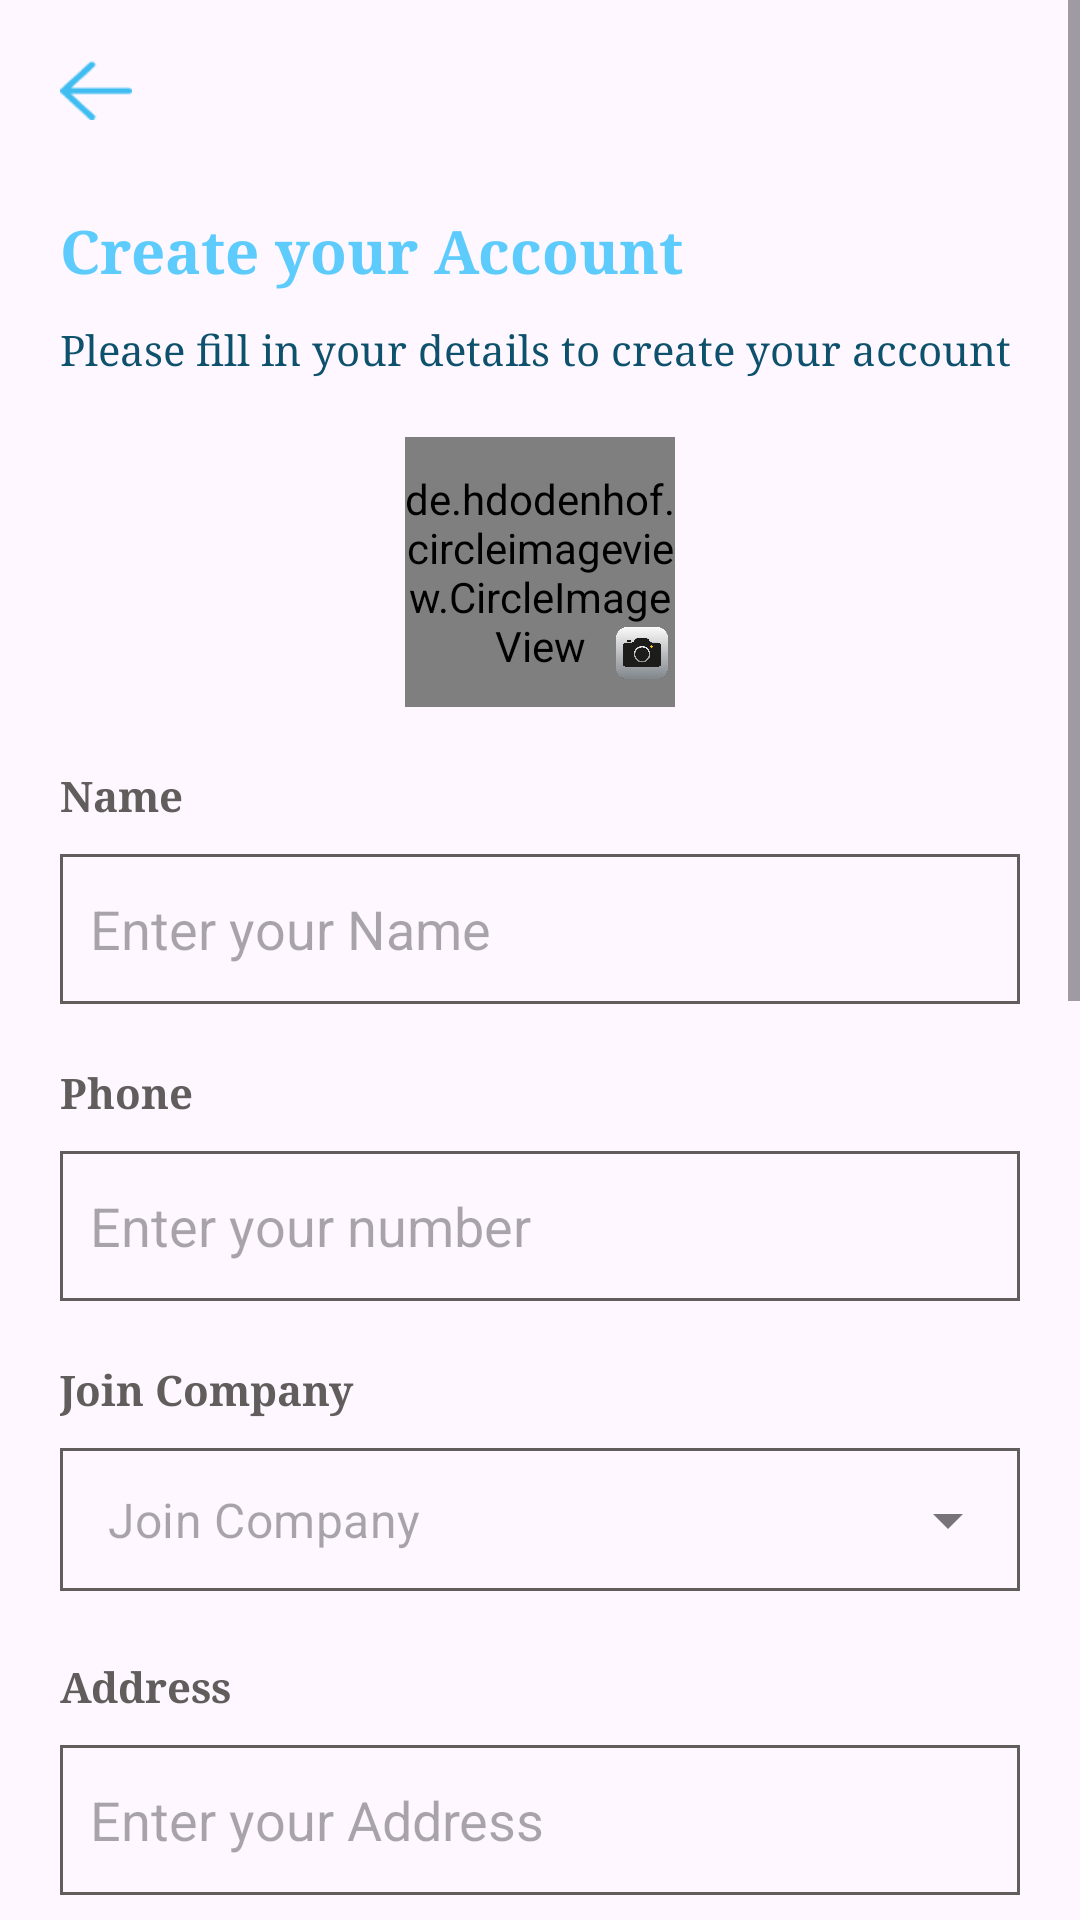

Where to tap for icons on this 1080px x 1920px app screen, as (x,y):
back arrow: (96,90)
camera: (642,650)
